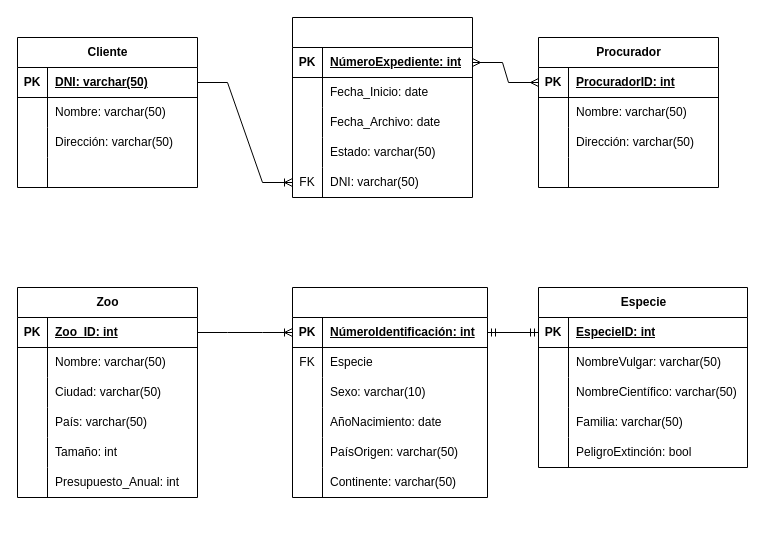
This 765x545 diagram has some shape labels left out. Here are the shapes that lost their labels. From the top down, the box of each, then its label:
(292, 16, 472, 198): Asunto
(292, 286, 488, 498): Animal
